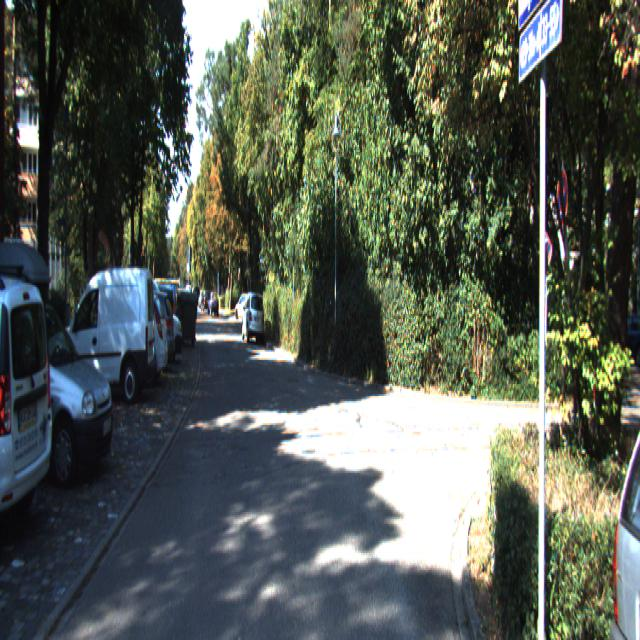Car: (0, 241, 119, 495), (0, 259, 60, 558), (49, 269, 156, 414), (80, 298, 168, 402), (104, 288, 177, 376), (241, 294, 265, 348)
